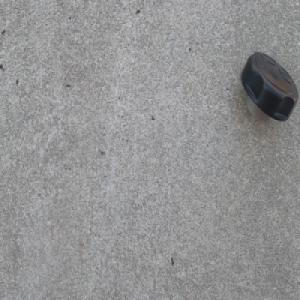FuelCap: (240, 50, 299, 125)
